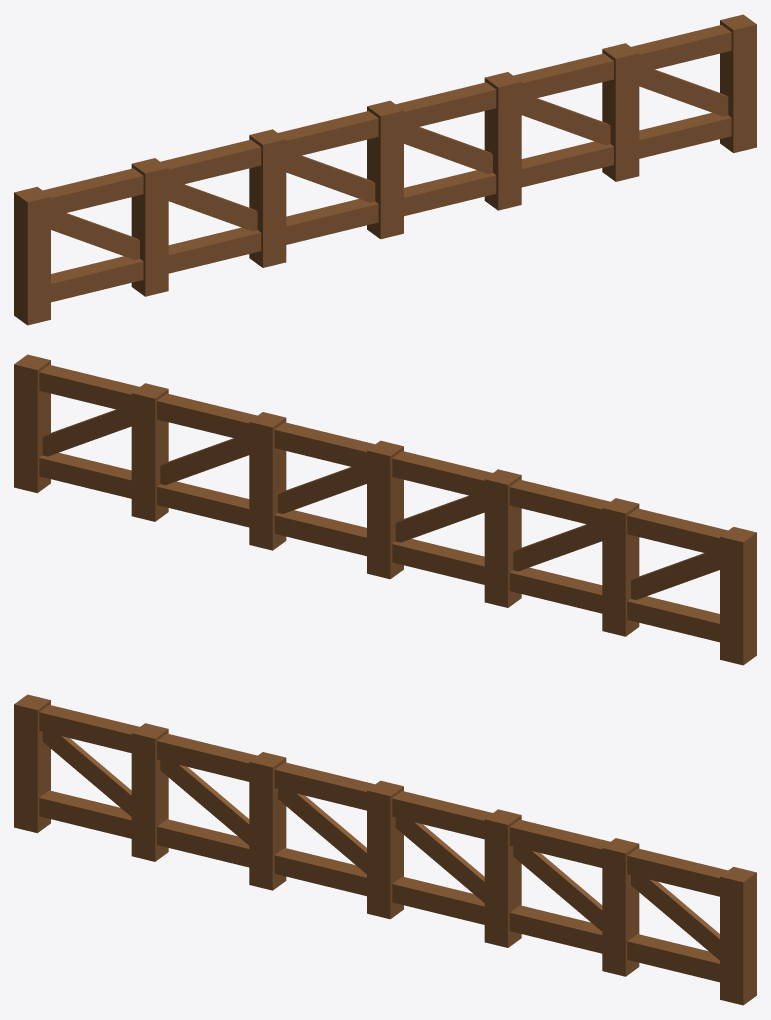
The model's file is FenceA6mLOD1.fbx.
3 renders of one model, top to bottom at view 1: azimuth 30°, elevation 25°; view 2: azimuth 150°, elevation 25°; view 3: azimuth 330°, elevation 25°, orthographic.
Visible parts, largest first — view 1: FenceA6mLOD1; view 2: FenceA6mLOD1; view 3: FenceA6mLOD1.
Boxes of the visible parts, bbox=[...] form: FenceA6mLOD1: bbox=[14, 14, 756, 325]; FenceA6mLOD1: bbox=[14, 354, 756, 665]; FenceA6mLOD1: bbox=[14, 694, 756, 1005].
Size of the model in its own units: 620 by 100 by 20.
